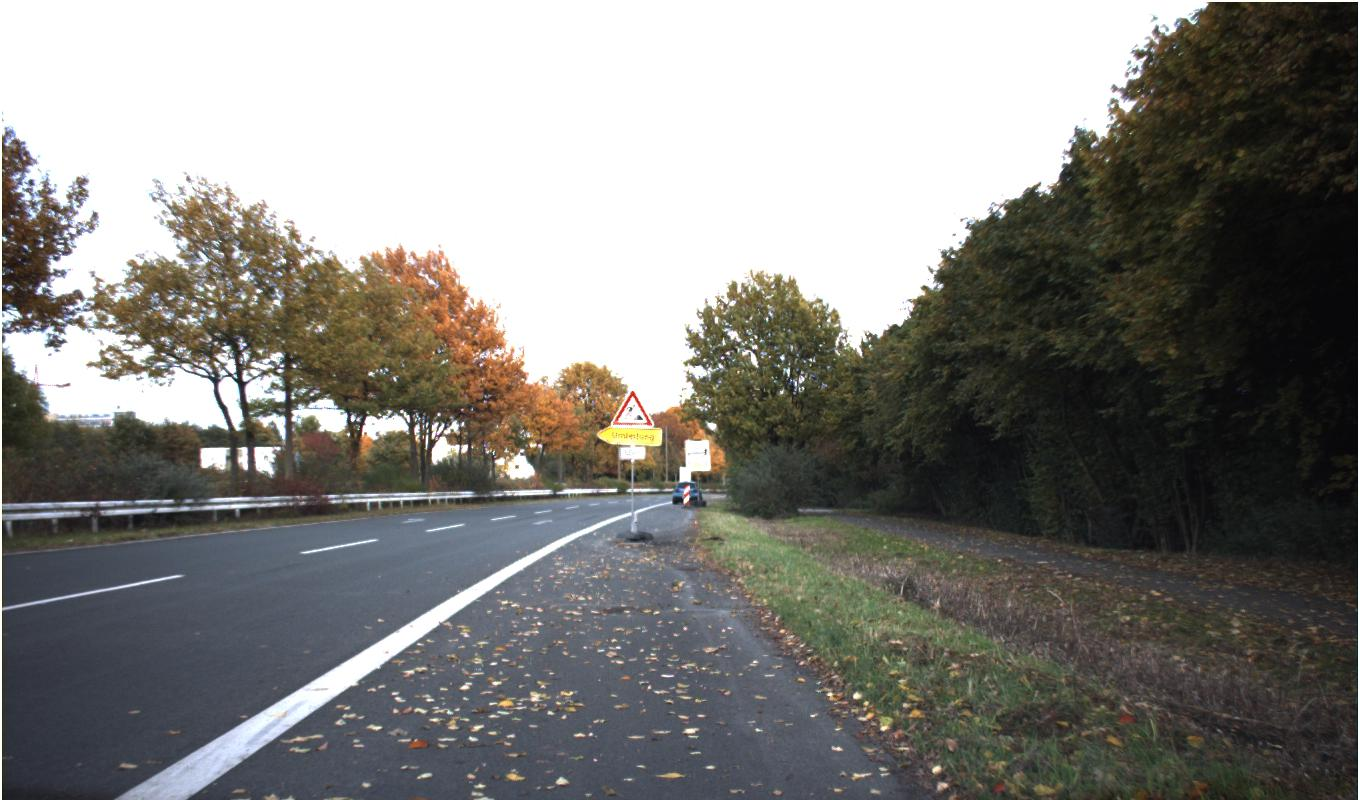danger: (610, 388, 653, 428)
